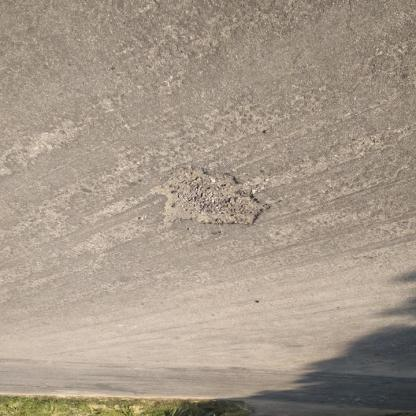pothole: (151, 168, 274, 232)
